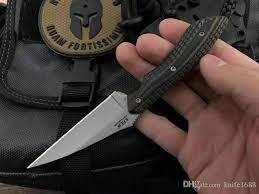knife: (26, 14, 231, 171)
